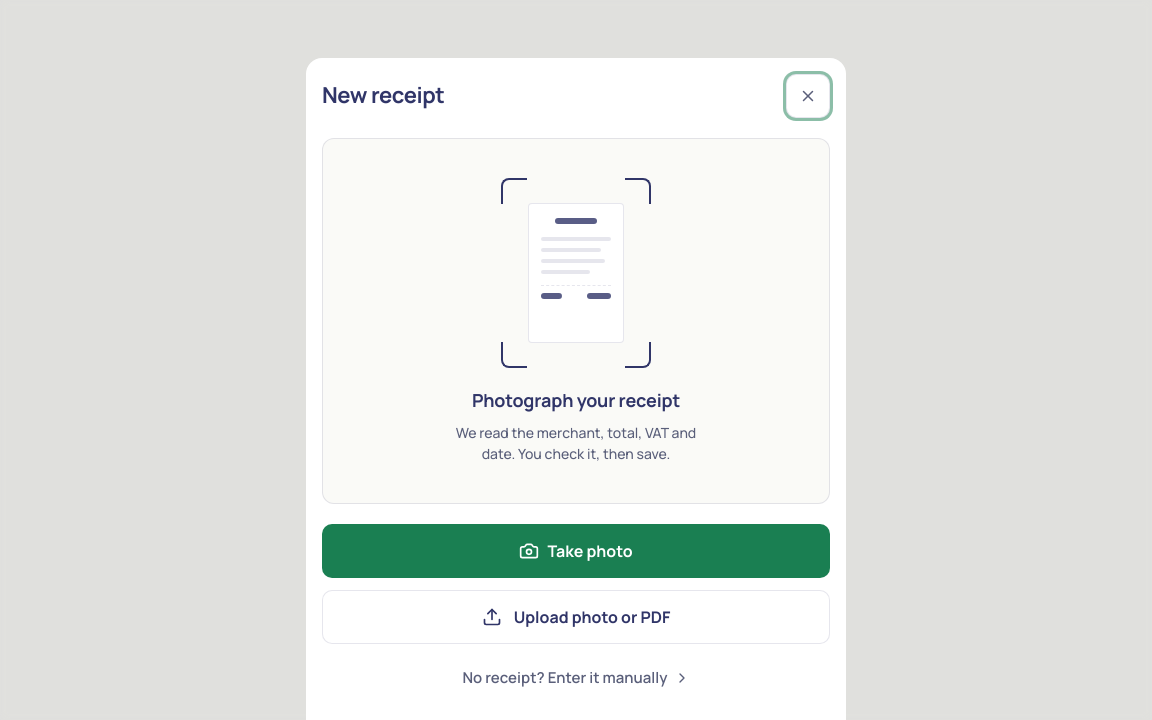
Test: CaptureDialog › falls back to a generic HTTP message when the server response has no error field
Click the button "No receipt? Enter it manually": [576, 678] box [322,656,830,700]
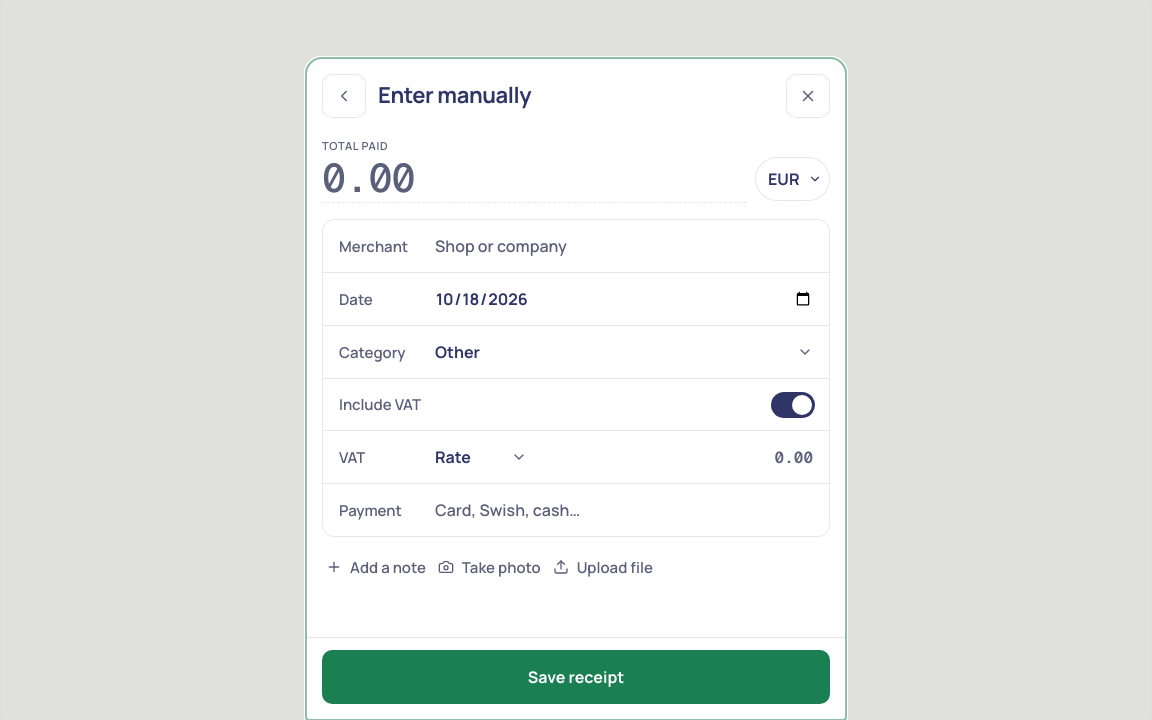
In the field labelled "Merchant": [624, 246] box [435,220,813,272], type "ICA Maxi"
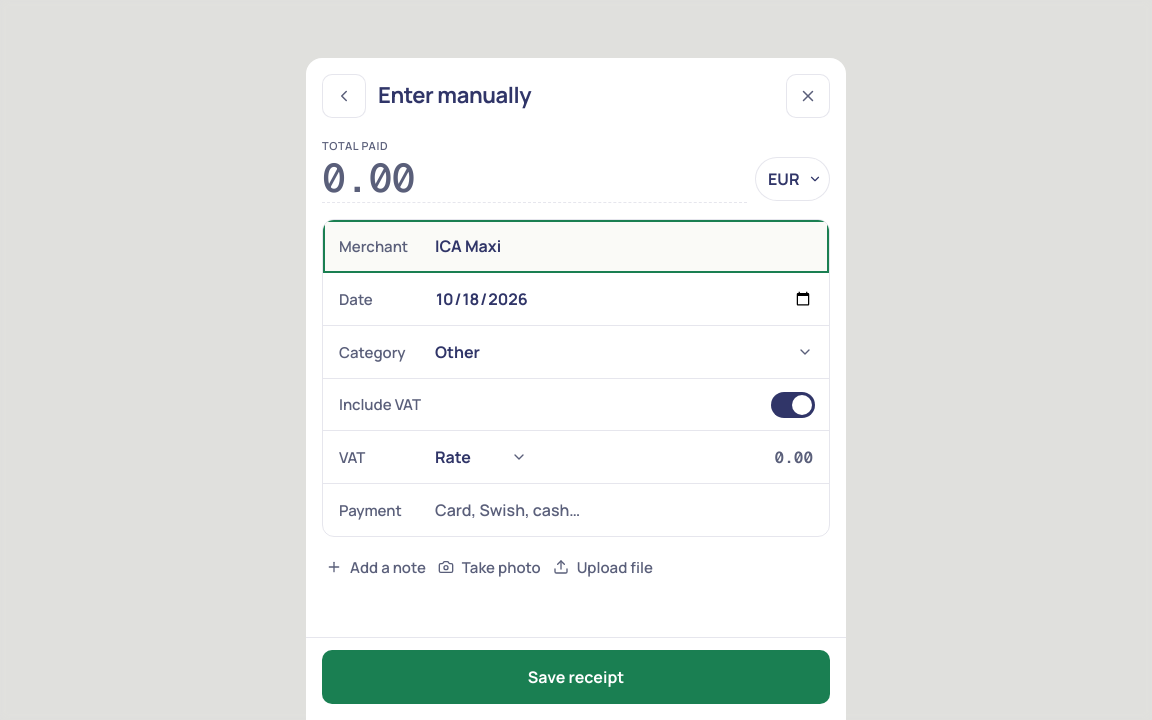
In the number field labelled "Total paid": [534, 179] box [322,155,747,203], type "49"
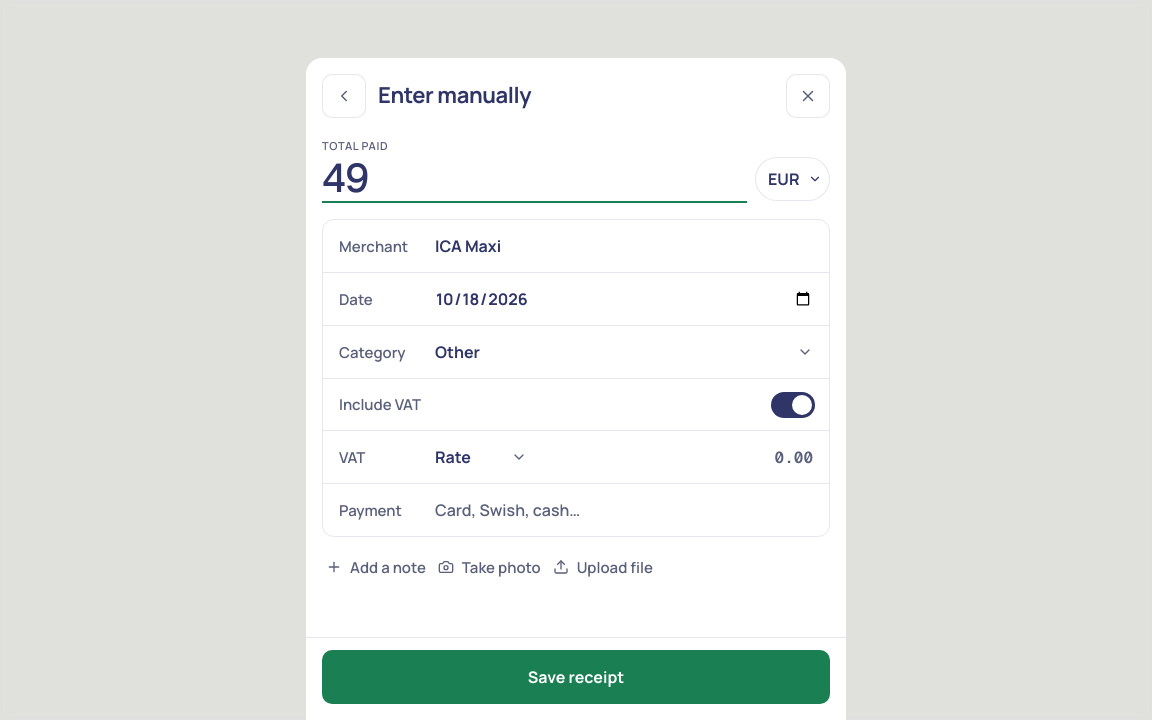
Click the button "Save receipt": [576, 677] box [322,650,830,704]
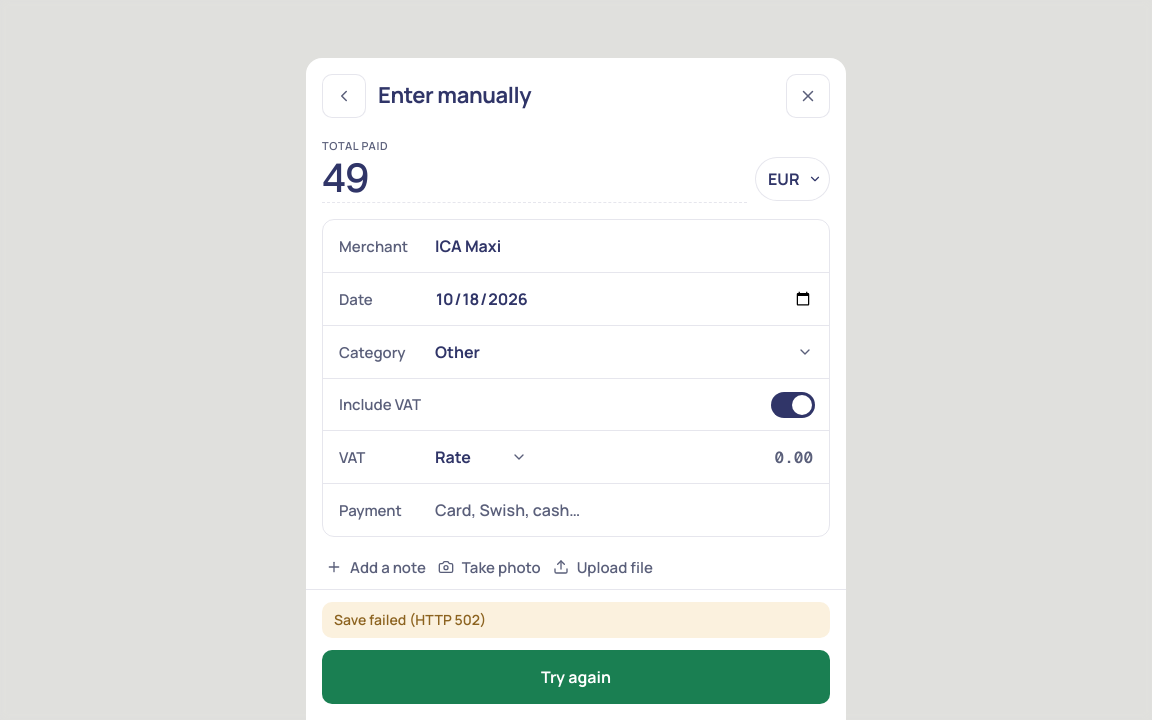
Expected: the message reads "Save failed (HTTP 502)", [334,610,486,629]
